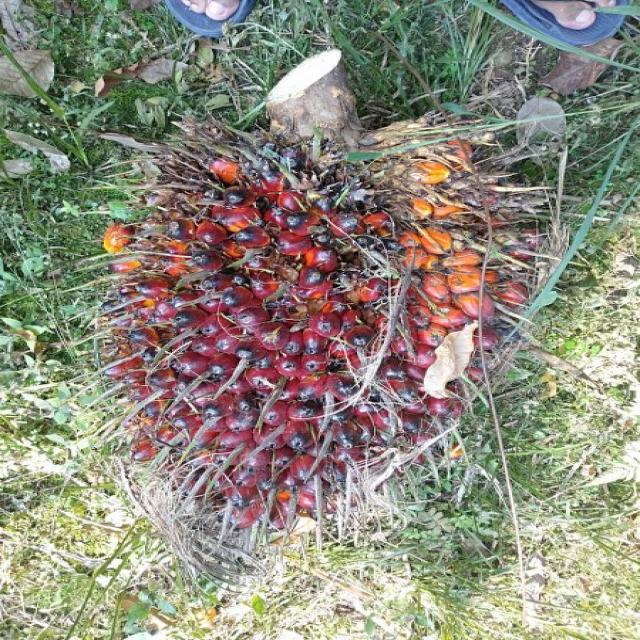fraksi 1: (71, 75, 541, 578)
